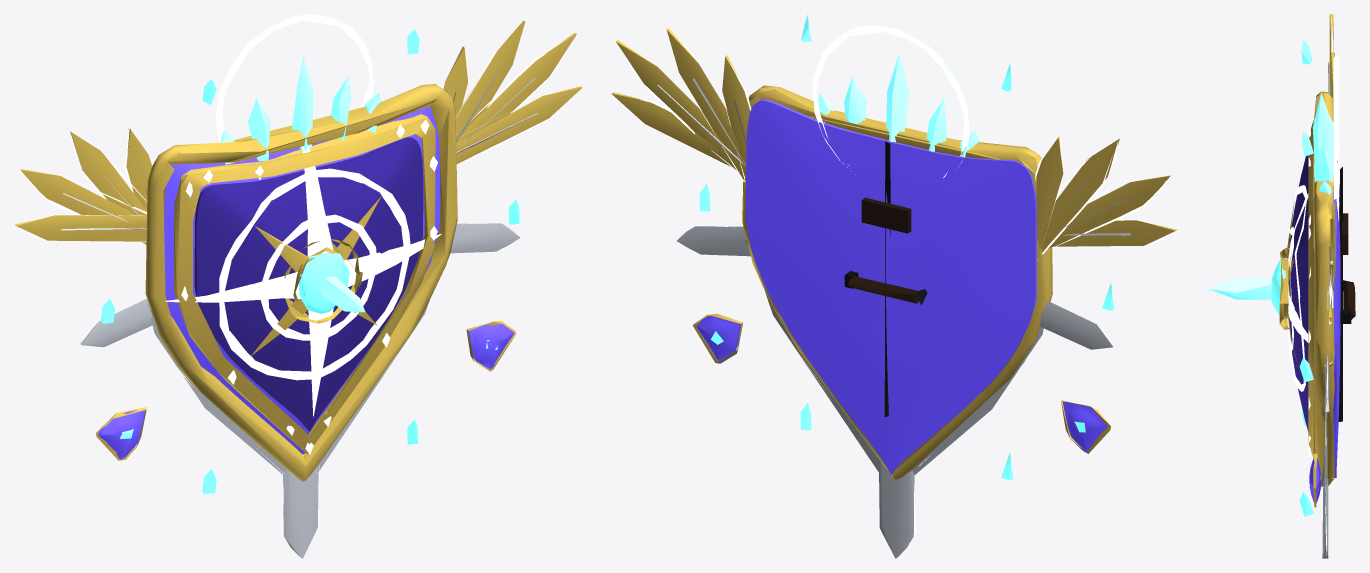
Rendered from greatshield_9.glb.
3 views of the same model, side by side, from view 1: azimuth 30°, elevation 25°; view 2: azimuth 150°, elevation 25°; view 3: azimuth 270°, elevation 25° (orthographic). The views are drawn at different scales.
Parts seen in each view (by area): view 1: greatshield_9; view 2: greatshield_9; view 3: greatshield_9.
Boxes of the visible parts, box(x1,y1,x2,y2) form: greatshield_9: box(15, 14, 582, 558); greatshield_9: box(611, 14, 1177, 558); greatshield_9: box(1206, 14, 1355, 558).
Size of the model in its own units: 1.72 by 1.55 by 0.4233.
